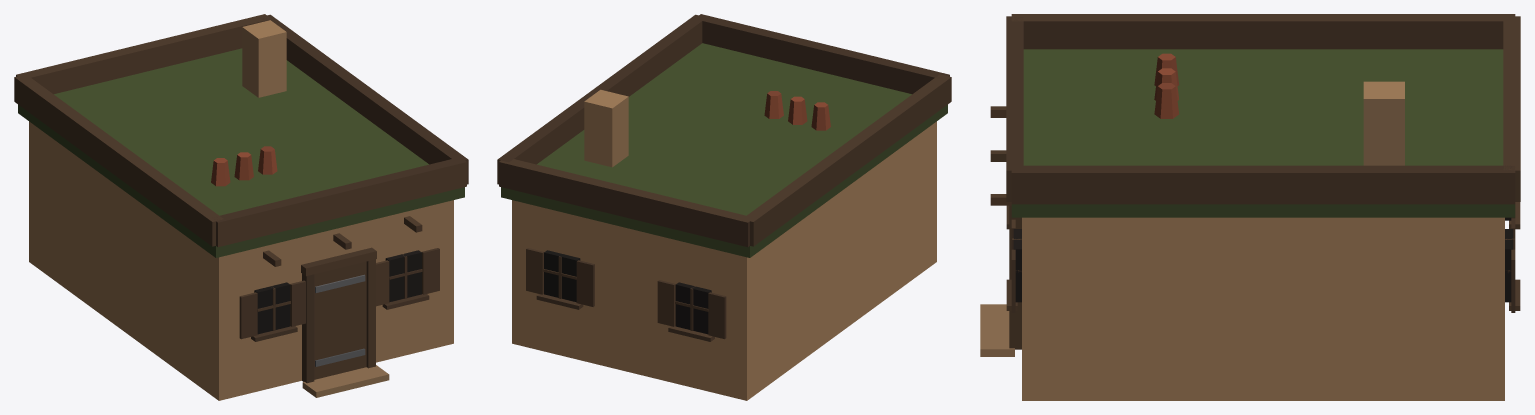
Rendered from walk_steppe_row.glb.
3 renders of one model, left to right at view 1: azimuth 30°, elevation 25°; view 2: azimuth 150°, elevation 25°; view 3: azimuth 270°, elevation 25°, orthographic. The views are drawn at different scales.
Visible parts, largest first — view 1: walk_steppe_row_roof, walk_steppe_row; view 2: walk_steppe_row_roof, walk_steppe_row; view 3: walk_steppe_row_roof, walk_steppe_row.
Part boxes in pixels (bbox=[...]): walk_steppe_row_roof: bbox=[14, 14, 468, 257]; walk_steppe_row: bbox=[29, 121, 453, 400]; walk_steppe_row_roof: bbox=[497, 14, 951, 257]; walk_steppe_row: bbox=[512, 121, 936, 400]; walk_steppe_row_roof: bbox=[1006, 14, 1520, 217]; walk_steppe_row: bbox=[980, 106, 1520, 400].
Size of what is drawn, in the model's own units: 5.45 by 4.6 by 7.82.
2 materials, 2 textured.
